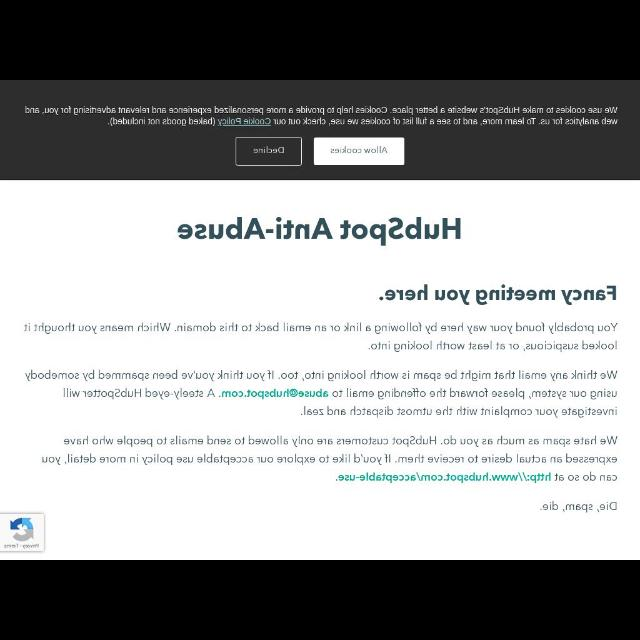image: (10, 518, 34, 542)
link: (218, 118, 270, 126)
text: (24, 368, 618, 418), (42, 434, 618, 482), (22, 322, 620, 352), (24, 103, 618, 129), (177, 218, 461, 246), (379, 286, 616, 302), (540, 500, 618, 512), (329, 147, 389, 157), (253, 146, 284, 156), (4, 544, 38, 548)
textbutton: (314, 136, 404, 166), (236, 136, 302, 166)
